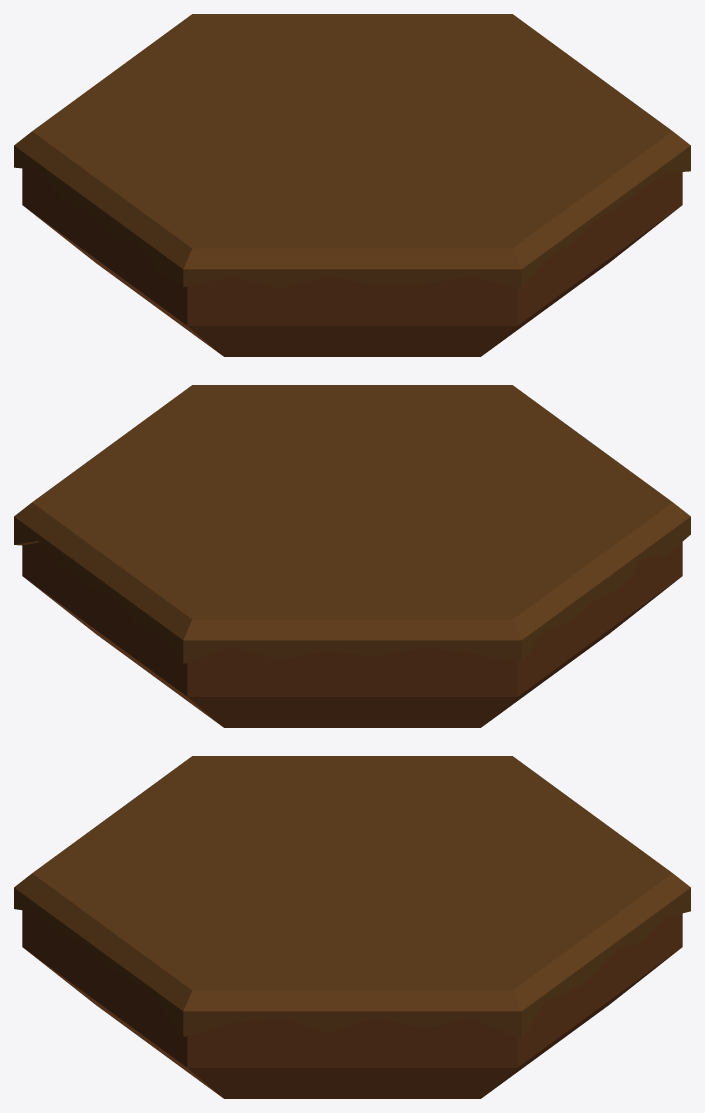
The model's file is mud_tile.fbx.
3 renders of one model, top to bottom at view 1: azimuth 30°, elevation 25°; view 2: azimuth 150°, elevation 25°; view 3: azimuth 270°, elevation 25°, orthographic.
Parts seen in each view (by area): view 1: grass_tile; view 2: grass_tile; view 3: grass_tile.
Boxes of the visible parts, x1=… form: grass_tile: x1=14, y1=14, x2=690, y2=356; grass_tile: x1=14, y1=385, x2=690, y2=727; grass_tile: x1=14, y1=756, x2=690, y2=1098.
Bounding box in the file's own units: 778 × 193 × 898.
